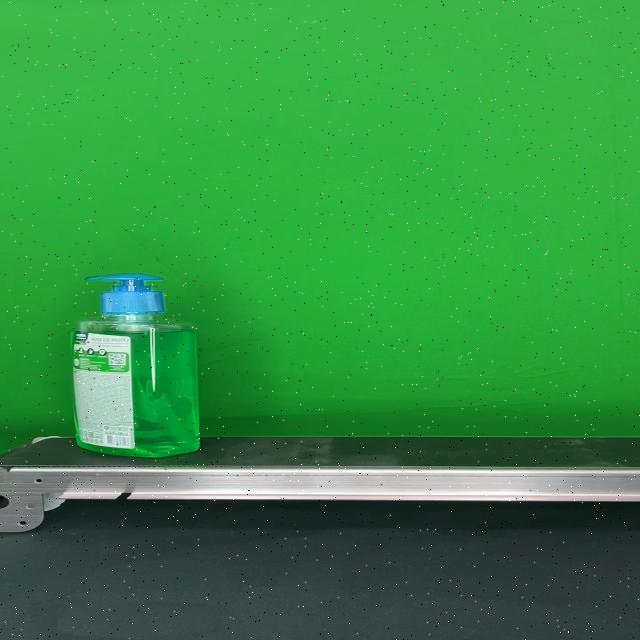Bottle: (72, 273, 201, 458)
Cap: (87, 274, 168, 315)
